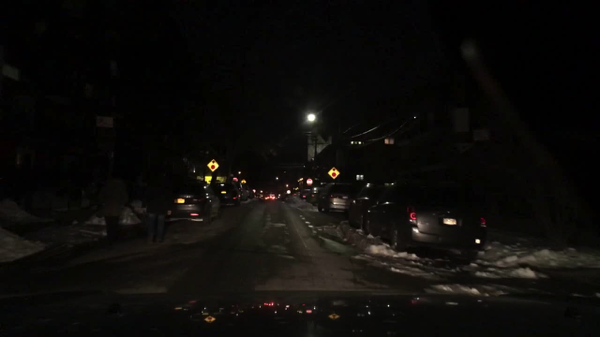car: (359, 177, 488, 263), (165, 177, 225, 227), (347, 182, 394, 231), (316, 182, 357, 213), (208, 182, 244, 207), (303, 185, 327, 204), (235, 184, 251, 202), (243, 184, 256, 200), (298, 187, 312, 200), (269, 192, 277, 201), (255, 194, 262, 199)
person: (92, 163, 129, 248), (137, 169, 175, 246)
traffic sign: (327, 166, 341, 181), (98, 117, 116, 128), (206, 159, 220, 172), (306, 178, 314, 185), (240, 178, 247, 184)
